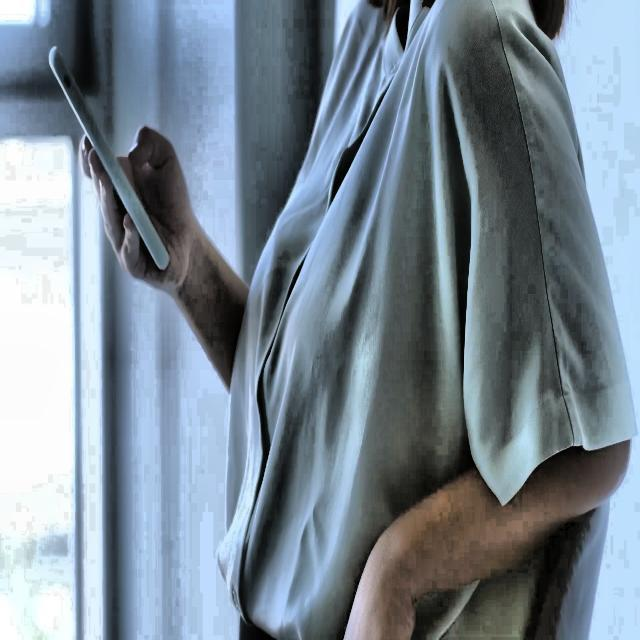Phone: (49, 42, 172, 274)
